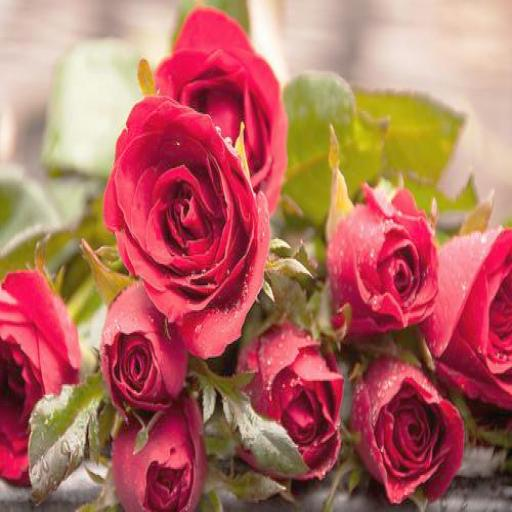rose: (108, 97, 267, 350), (239, 315, 342, 484), (328, 186, 443, 332), (356, 353, 463, 506), (434, 227, 512, 404), (98, 279, 186, 406), (113, 399, 208, 512)
